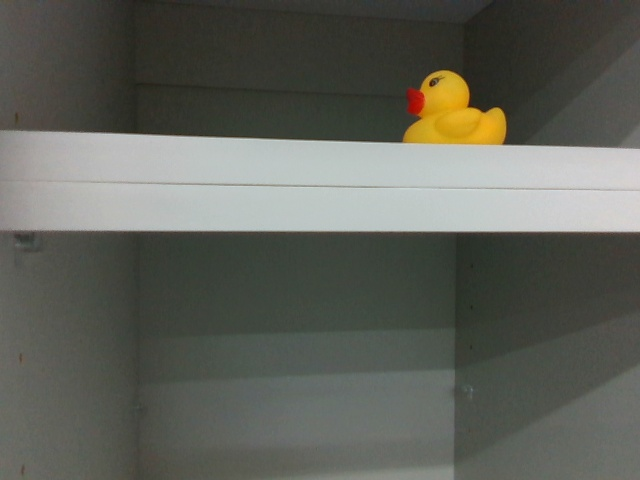duck: (398, 65, 506, 148)
